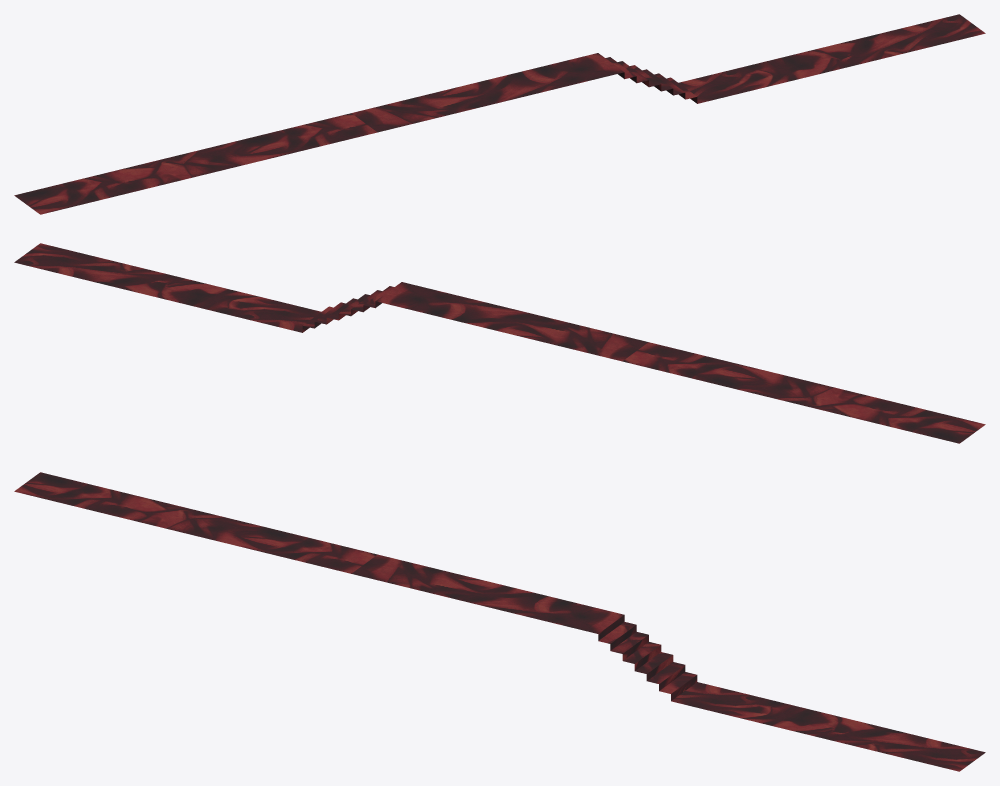
3 renders of one model, top to bottom at view 1: azimuth 30°, elevation 25°; view 2: azimuth 150°, elevation 25°; view 3: azimuth 330°, elevation 25°, orthographic.
Visible parts, largest first — view 1: SketchUp; view 2: SketchUp; view 3: SketchUp.
Part boxes in pixels (box(x1,y1,x2,y2)): SketchUp: box(14, 14, 985, 214); SketchUp: box(14, 243, 985, 443); SketchUp: box(14, 472, 985, 771).
Bounding box in the file's own units: 972 × 47.05 × 48.62.
1 material, 1 textured.
